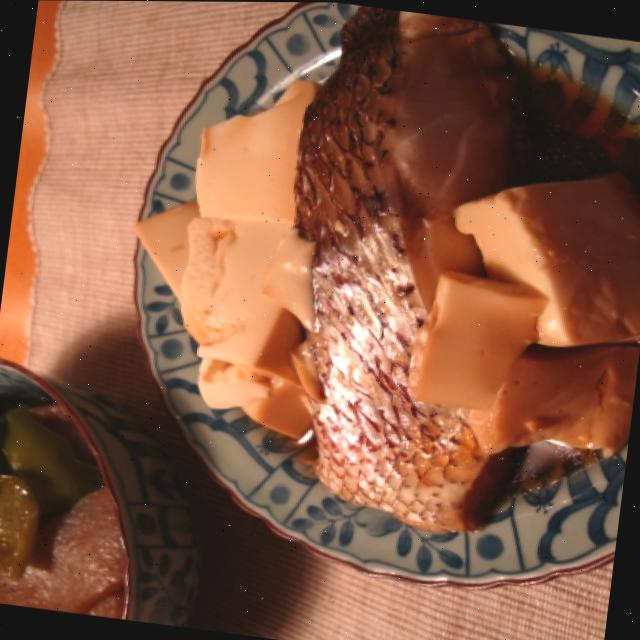熟制海鲜: (229, 1, 606, 572)
